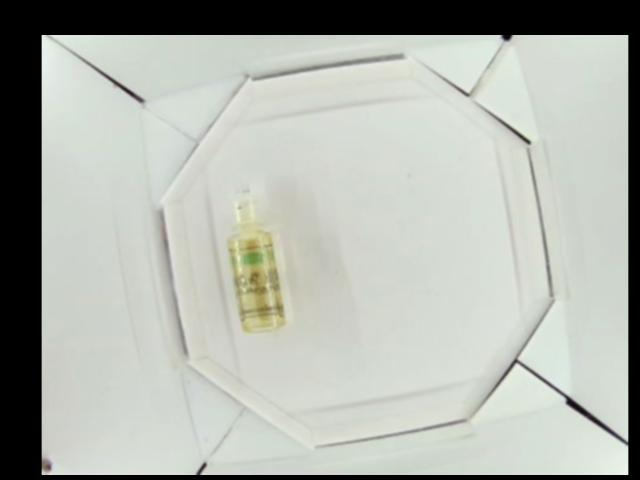Bottle: (220, 182, 290, 333)
